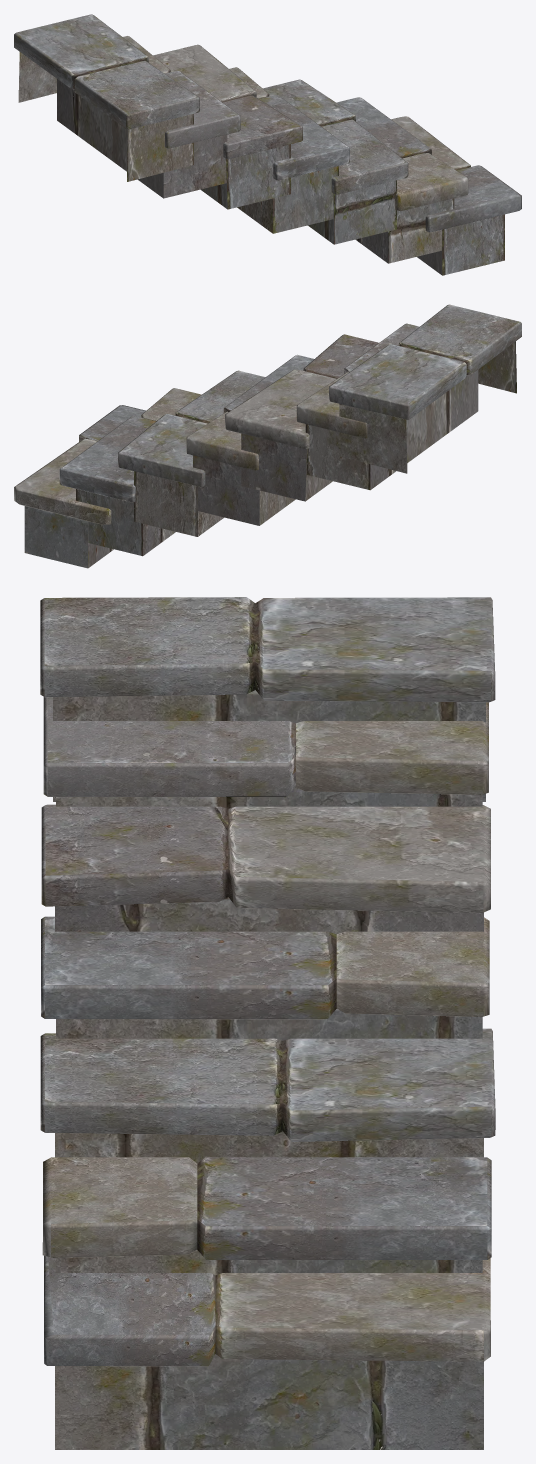
The picture shows the model from 3 angles, top to bottom: view 1: azimuth 30°, elevation 25°; view 2: azimuth 150°, elevation 25°; view 3: azimuth 270°, elevation 25°; orthographic projection. The views are drawn at different scales.
Visible parts, largest first — view 1: SM_BB_T3_Extended_Stairs_Shallow_Narrow_LOD0; view 2: SM_BB_T3_Extended_Stairs_Shallow_Narrow_LOD0; view 3: SM_BB_T3_Extended_Stairs_Shallow_Narrow_LOD0.
Boxes of the visible parts, x1,y1,x2,y2 form: SM_BB_T3_Extended_Stairs_Shallow_Narrow_LOD0: [14, 14, 521, 275]; SM_BB_T3_Extended_Stairs_Shallow_Narrow_LOD0: [14, 304, 521, 568]; SM_BB_T3_Extended_Stairs_Shallow_Narrow_LOD0: [40, 597, 495, 1449].
Size of the model in its own units: 1.55 by 0.898 by 0.7692.
1 material, 1 textured.
